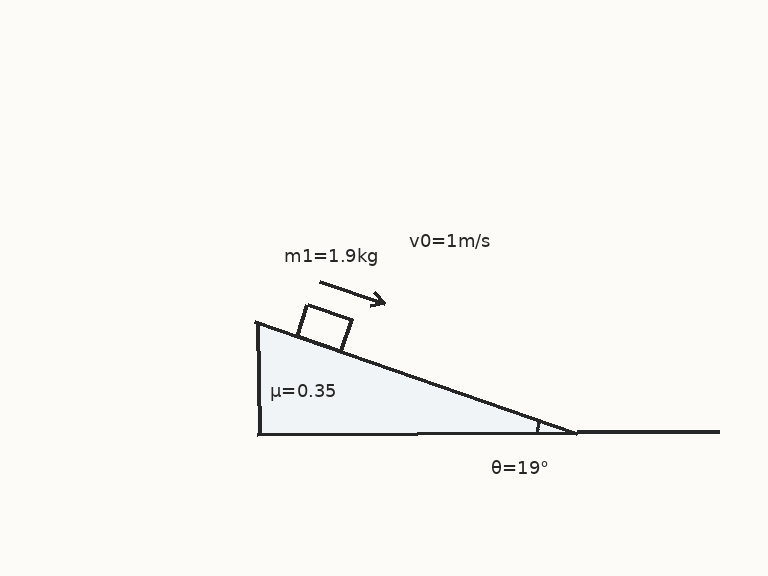block: (295, 302, 354, 354)
ramp: (255, 321, 579, 435)
